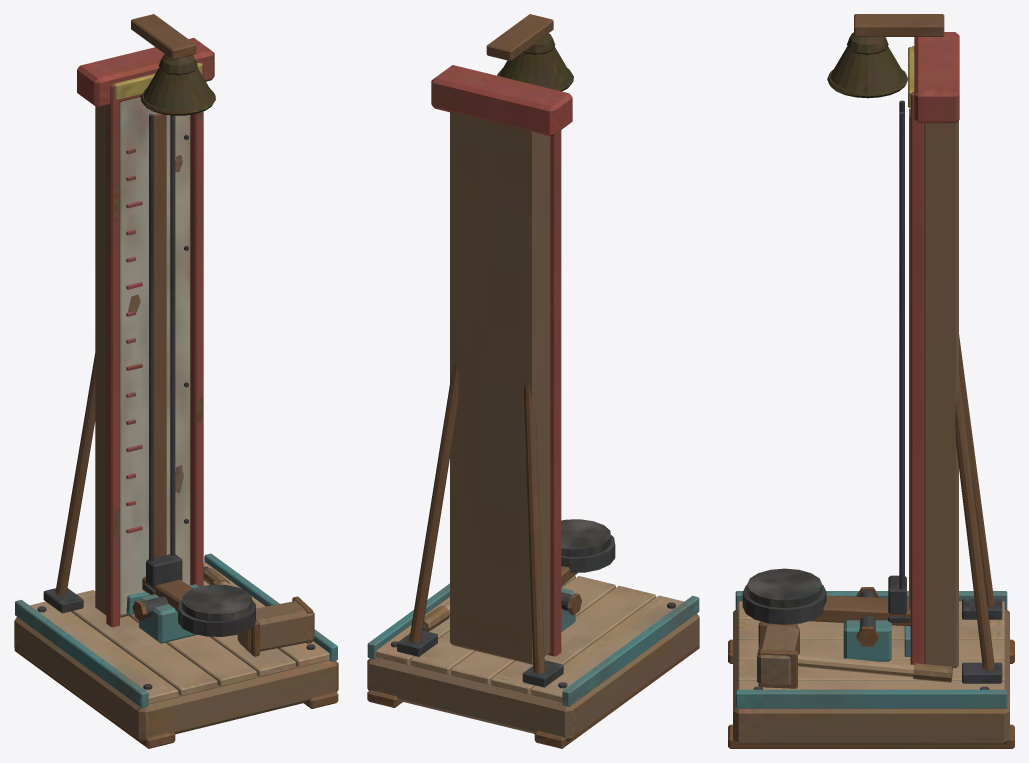
The model's file is C13_strongman_hammer_game.glb.
3 views of the same model, side by side, from view 1: azimuth 30°, elevation 25°; view 2: azimuth 150°, elevation 25°; view 3: azimuth 270°, elevation 25° (orthographic). The views are drawn at different scales.
Parts seen in each view (by area): view 1: Heavy timber plinth; view 2: Heavy timber plinth; view 3: Heavy timber plinth.
Part boxes in pixels (bbox=[...]): Heavy timber plinth: bbox=[14, 14, 338, 748]; Heavy timber plinth: bbox=[367, 14, 699, 748]; Heavy timber plinth: bbox=[728, 14, 1014, 748].
Bounding box in the file's own units: 0.9853 × 3 × 1.15.
Materials: 10 (10 with a texture image).
